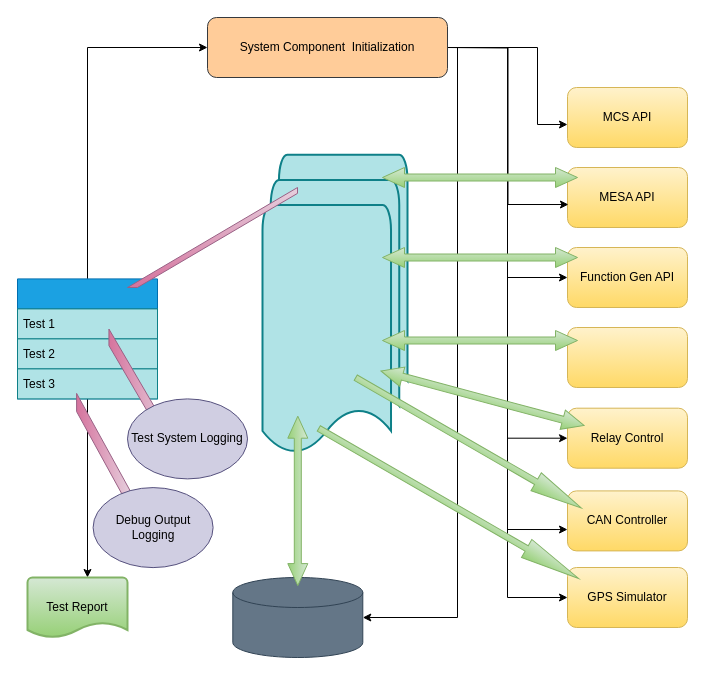
Some shapes in this 705 by 675 pixel diagram are drawn without their labels. The shapes that lost their labels are listed below. From the top down, each one's box as (x1, y1, x2, y2) in pixels, then its label:
(261, 153, 408, 458): Test Scripts
(16, 278, 158, 399): Test Sequencer
(566, 326, 688, 388): PSU API
(232, 576, 363, 658): DB INTERACTION
